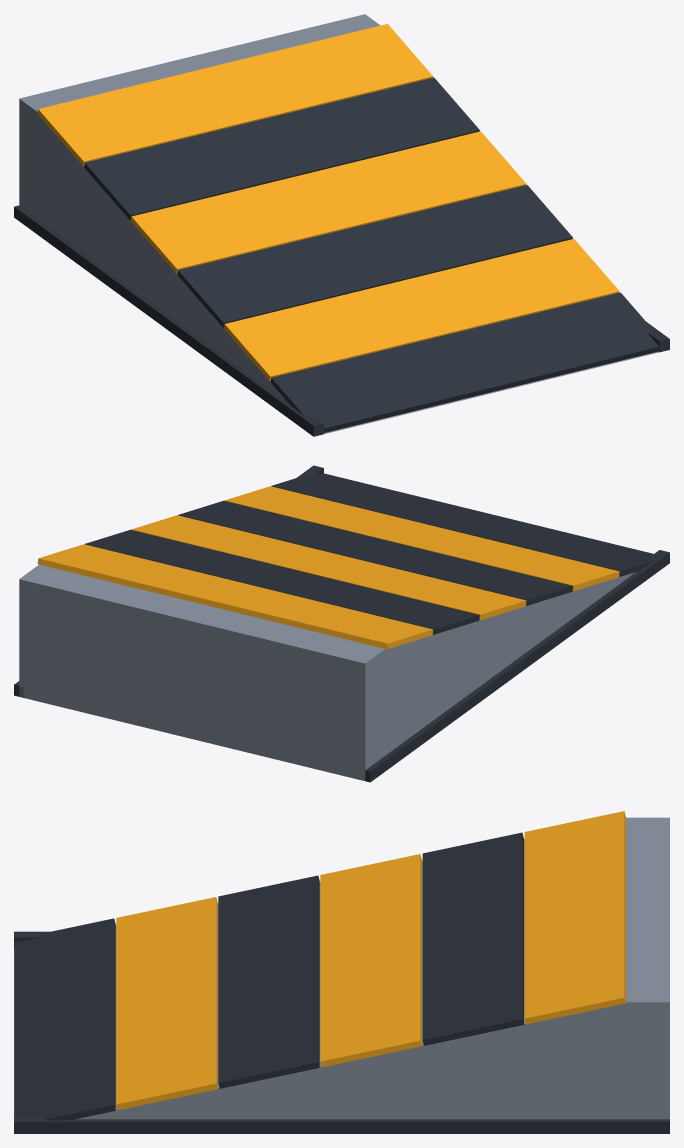
Rendered from ramp.glb.
The picture shows the model from 3 angles, top to bottom: view 1: azimuth 30°, elevation 25°; view 2: azimuth 150°, elevation 25°; view 3: azimuth 270°, elevation 25°; orthographic projection. The views are drawn at different scales.
Parts seen in each view (by area): view 1: ramp; view 2: ramp; view 3: ramp.
Part boxes in pixels (x1=…): ramp: x1=14, y1=14, x2=669, y2=436; ramp: x1=14, y1=465, x2=669, y2=782; ramp: x1=14, y1=811, x2=669, y2=1133.
Size of the model in its own units: 4.12 by 1.36 by 6.
